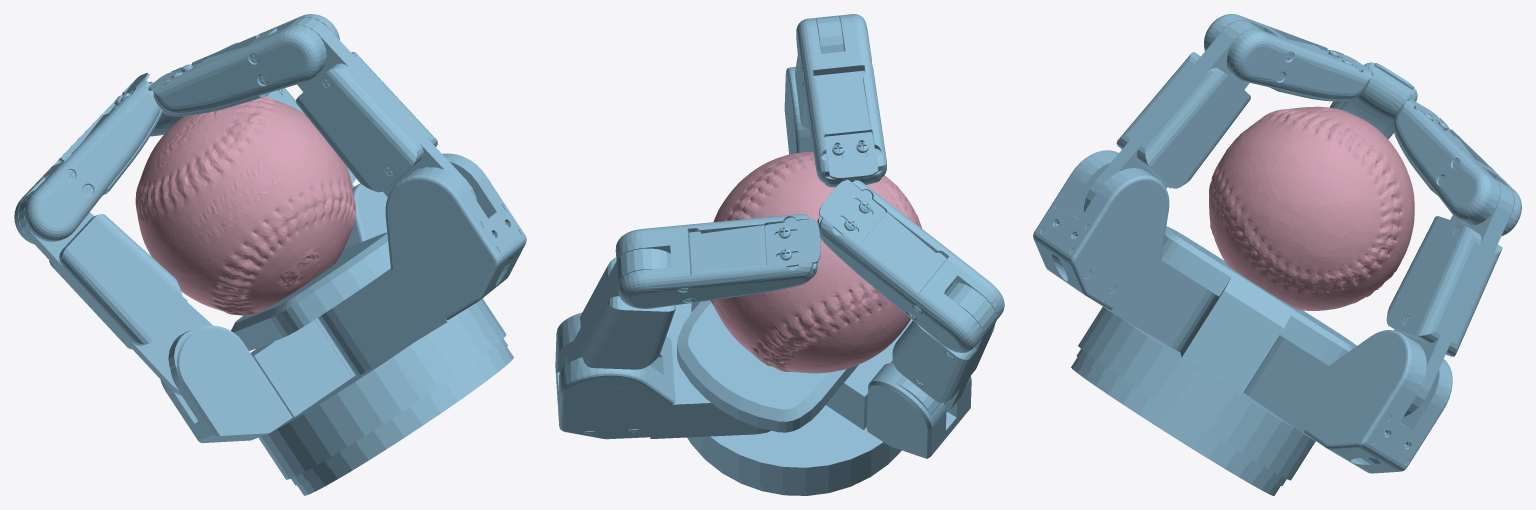
3 views of the same model, side by side, from view 1: azimuth 30°, elevation 25°; view 2: azimuth 150°, elevation 25°; view 3: azimuth 270°, elevation 25° (orthographic). The views are drawn at different scales.
Parts seen in each view (by area): view 1: world; view 2: world; view 3: world.
Boxes of the visible parts, x1,y1,x2,y2 form: world: (14,14,526,495); world: (555,14,1004,495); world: (1033,14,1521,495).
Size of the model in its own units: 0.1657 by 0.1735 by 0.1725.
